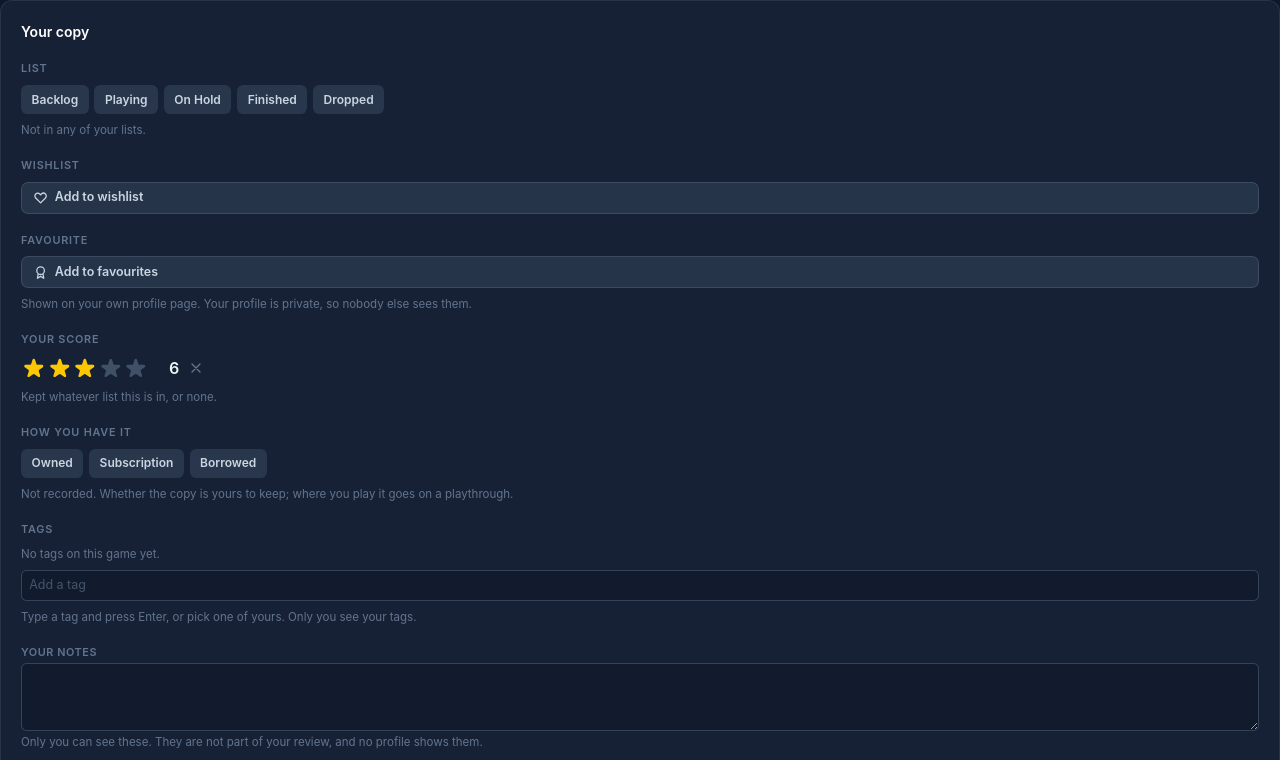
Scenario: GameUserPanel scoring › says why the score went back, and takes that down once a score saves
Click the radio button named "2 out of 10": {"x": 64, "y": 360} [33,350,96,370]
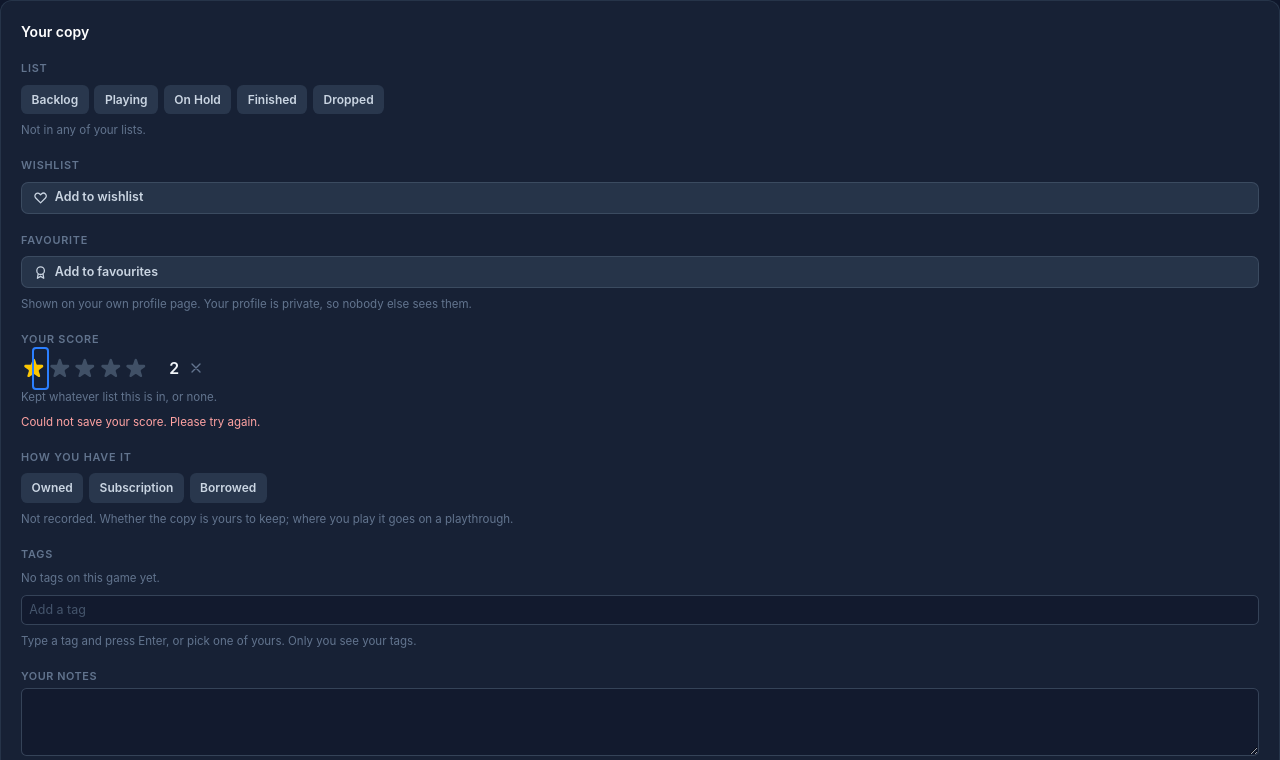
expect the message reads "Could not save your score. Please try again.": met, box [21,415,260,429]
Click the radio button named "4 out of 10": {"x": 90, "y": 360} [58,350,122,370]
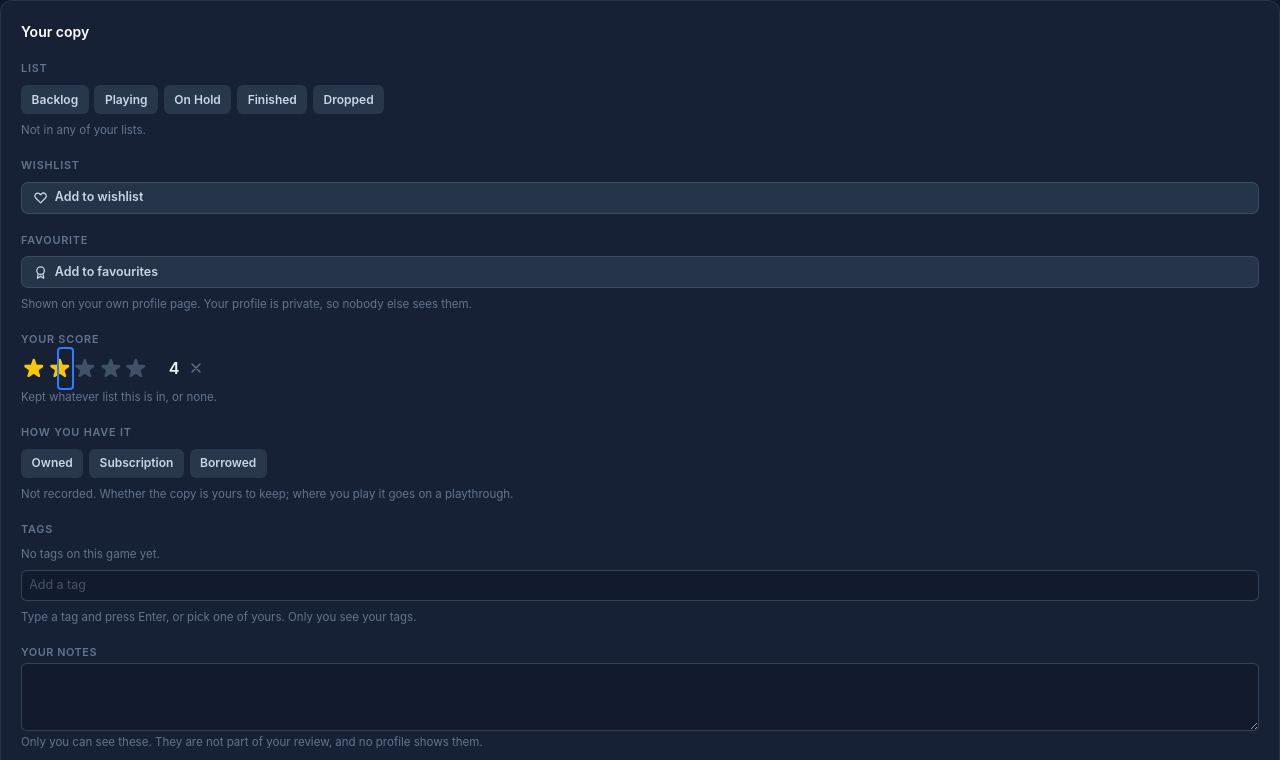
expect the message "Could not save your score. Please try again." is gone: met
